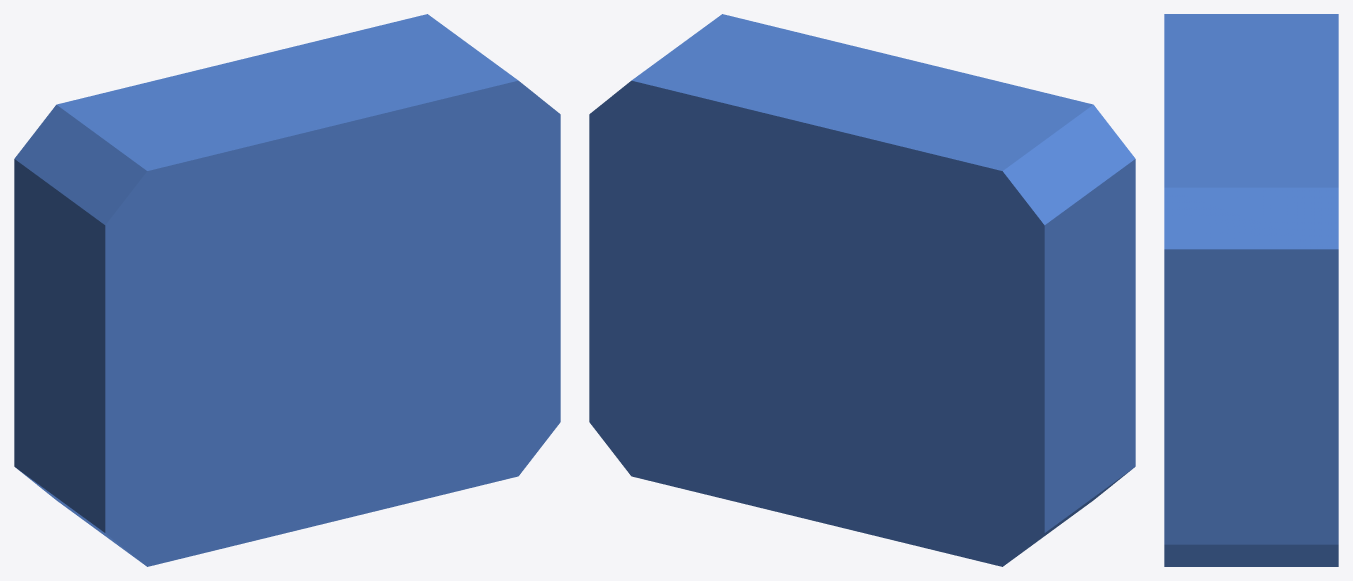
Rendered from six_piston_race_lod2.glb.
3 views of the same model, side by side, from view 1: azimuth 30°, elevation 25°; view 2: azimuth 150°, elevation 25°; view 3: azimuth 270°, elevation 25° (orthographic). The views are drawn at different scales.
Parts seen in each view (by area): view 1: six_piston_race_lod2; view 2: six_piston_race_lod2; view 3: six_piston_race_lod2.
Boxes of the visible parts, box(x1,y1,x2,y2) form: six_piston_race_lod2: box(14, 14, 560, 566); six_piston_race_lod2: box(589, 14, 1135, 566); six_piston_race_lod2: box(1164, 14, 1338, 566).
Bounding box in the file's own units: 0.13 × 0.108 × 0.045.
